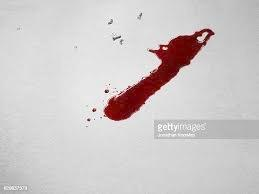Bloodstain-Detection: (123, 33, 196, 121)
